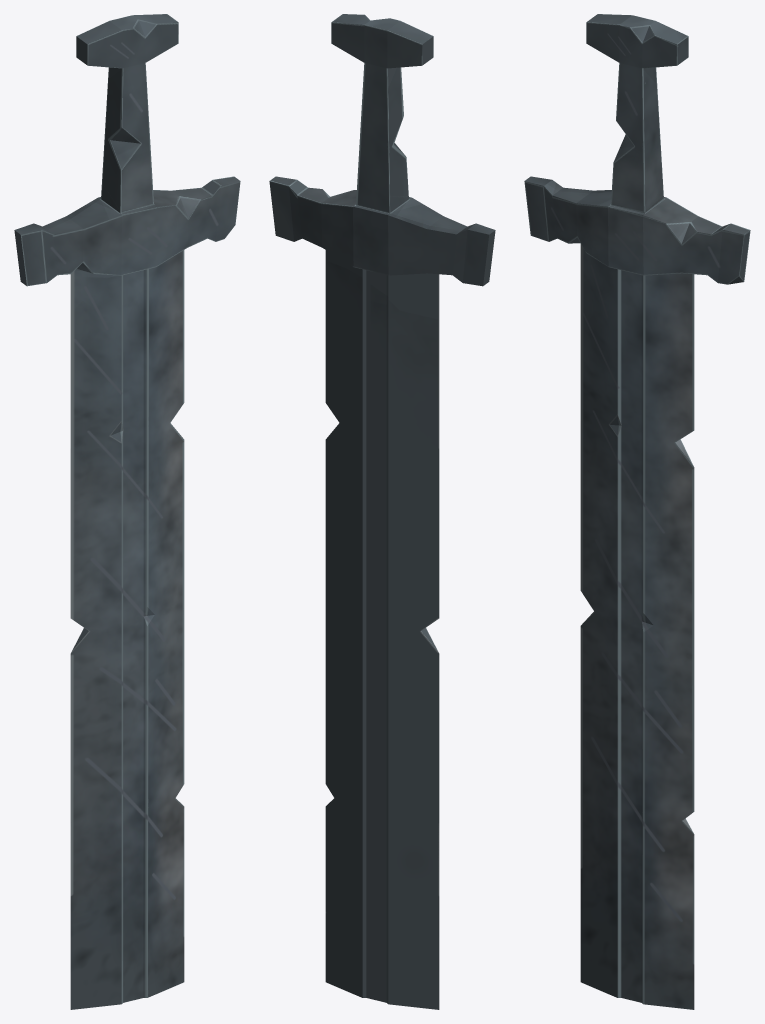
Rendered from espada 1.fbx.
3 views of the same model, side by side, from view 1: azimuth 30°, elevation 25°; view 2: azimuth 150°, elevation 25°; view 3: azimuth 330°, elevation 25° (orthographic).
Parts seen in each view (by area): view 1: espada 1; view 2: espada 1; view 3: espada 1.
Part boxes in pixels (x1,y1,x2,y2): espada 1: (14, 14, 240, 1009); espada 1: (269, 14, 495, 1009); espada 1: (524, 14, 750, 1009).
Bounding box in the file's own units: 162 × 687 × 30.72.
Materials: 1 (1 with a texture image).
